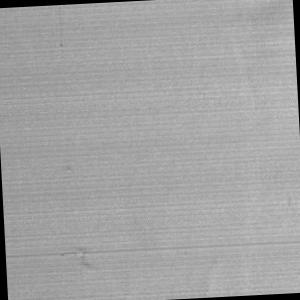Wrinkle: (223, 14, 273, 121), (189, 251, 235, 299)
